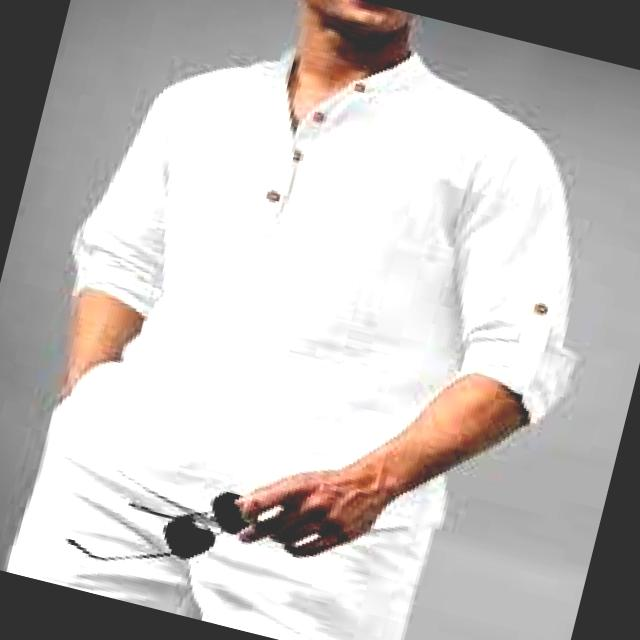lower-wear: (6, 391, 433, 639)
top-wear: (71, 46, 579, 506)
